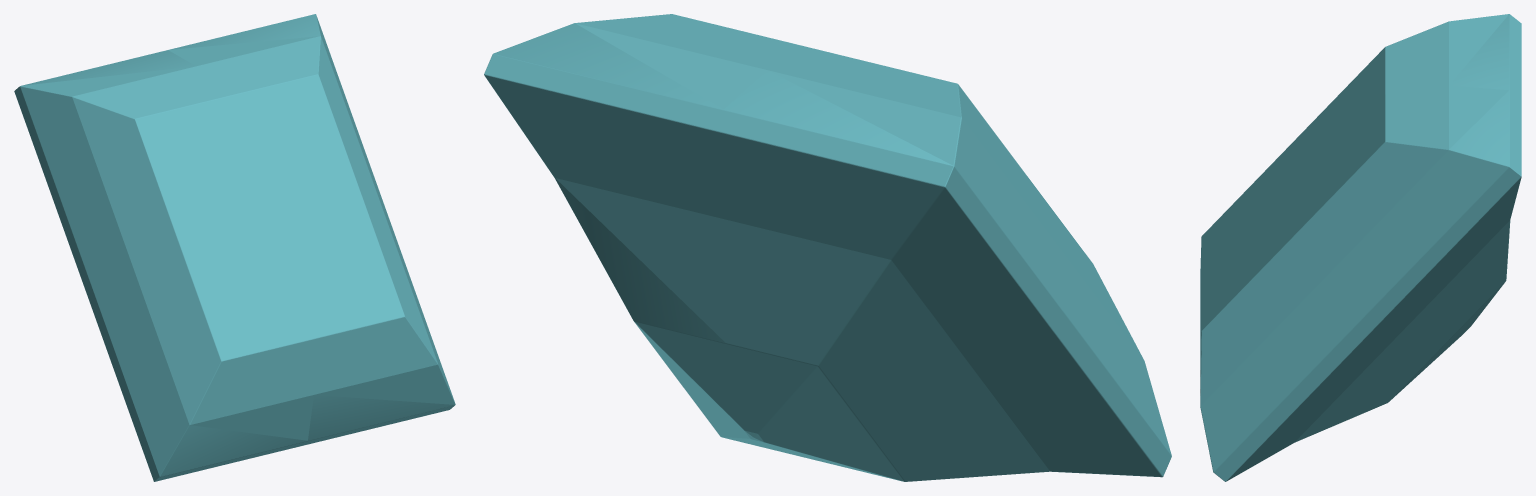
Rendered from aquamarine.glb.
The picture shows the model from 3 angles, left to right: view 1: azimuth 30°, elevation 25°; view 2: azimuth 150°, elevation 25°; view 3: azimuth 270°, elevation 25°; orthographic projection. The views are drawn at different scales.
Visible parts, largest first — view 1: aquamarine.001; view 2: aquamarine.001; view 3: aquamarine.001.
Boxes of the visible parts, left/top/right/bottom form: aquamarine.001: left=14, top=14, right=455, bottom=481; aquamarine.001: left=484, top=14, right=1171, bottom=481; aquamarine.001: left=1200, top=14, right=1521, bottom=481.
Size of the model in its own units: 1.84 by 1.8 by 1.64.
